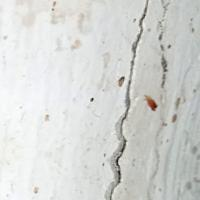crack: (95, 0, 152, 199)
